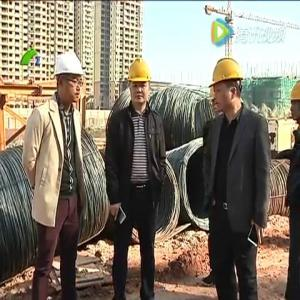white: (54, 52, 84, 105)
yellow: (212, 59, 244, 113), (128, 60, 153, 107), (290, 79, 300, 124)
